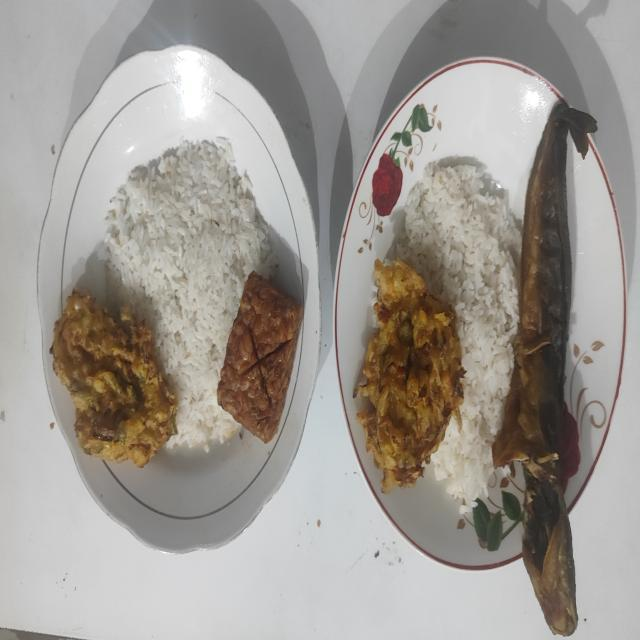nasi_putih: (105, 140, 274, 450), (390, 161, 520, 501)
tempe_goreng: (217, 272, 303, 442)
